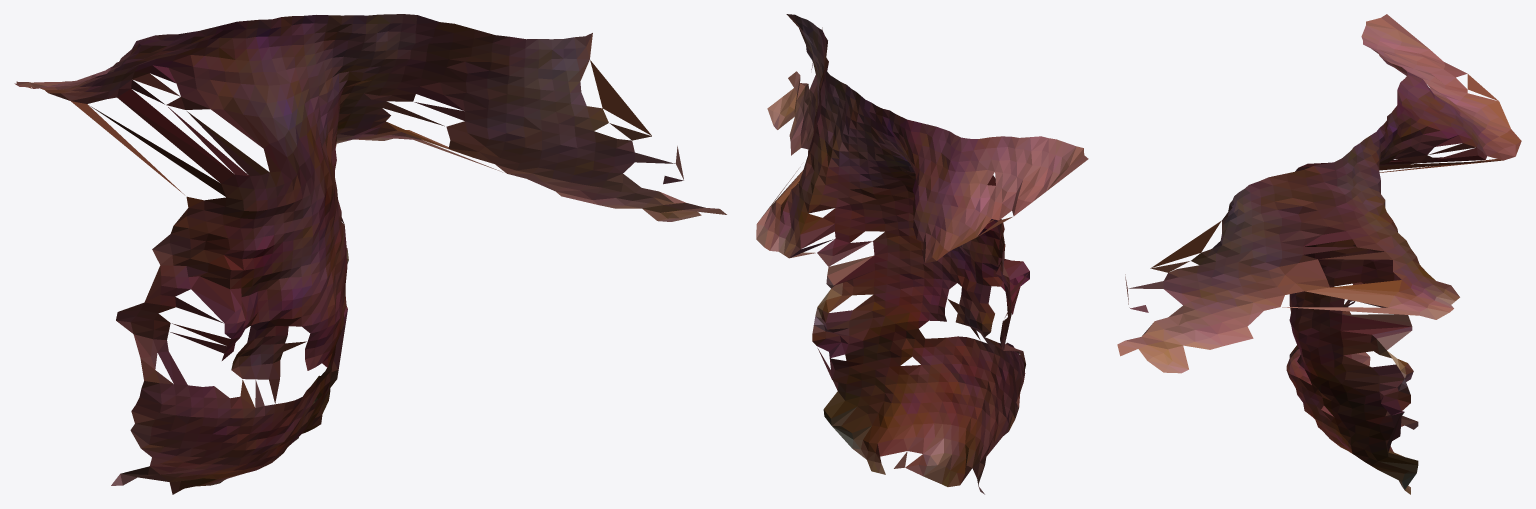
The picture shows the model from 3 angles, left to right: view 1: azimuth 30°, elevation 25°; view 2: azimuth 150°, elevation 25°; view 3: azimuth 270°, elevation 25°; orthographic projection. The views are drawn at different scales.
Visible parts, largest first — view 1: ofMesh; view 2: ofMesh; view 3: ofMesh.
Boxes of the visible parts, x1,y1,x2,y2 form: ofMesh: (14,14,726,494); ofMesh: (756,14,1088,494); ofMesh: (1117,14,1521,494).
Bounding box in the file's own units: 348 × 276 × 270.
1 material, 1 textured.
